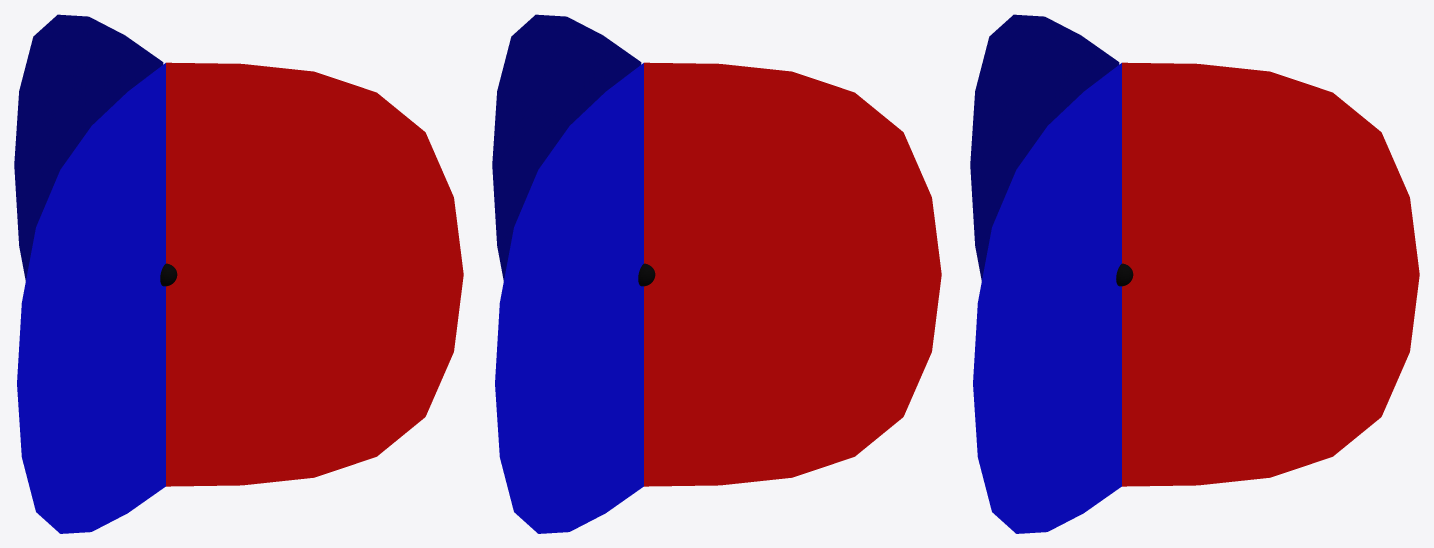
The model's file is 3foldnbhd.glb.
3 renders of one model, left to right at view 1: azimuth 30°, elevation 25°; view 2: azimuth 150°, elevation 25°; view 3: azimuth 270°, elevation 25°, orthographic.
Visible parts, largest first — view 1: Circle; view 2: Circle; view 3: Circle.
Part boxes in pixels (x1,y1,x2,y2): Circle: (14,14,463,533); Circle: (492,14,941,533); Circle: (970,14,1419,533).
Size of the model in its own units: 1.66 by 1.5 by 1.44.
